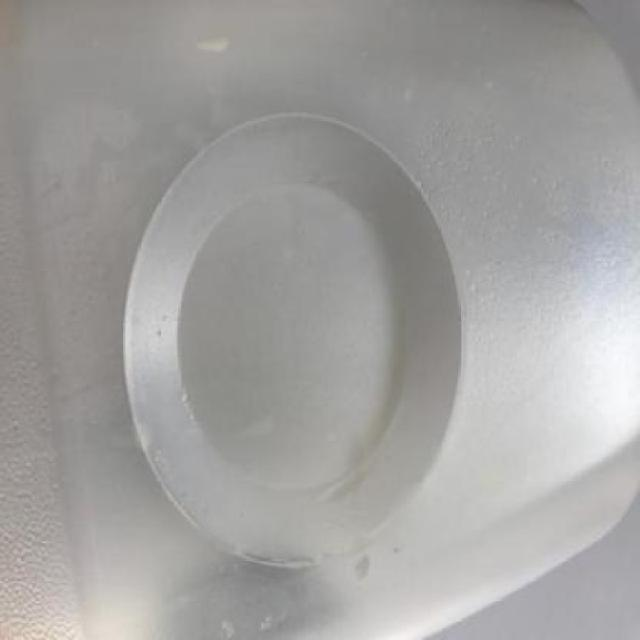PLASTIC: (0, 1, 638, 638), (124, 113, 465, 569)
